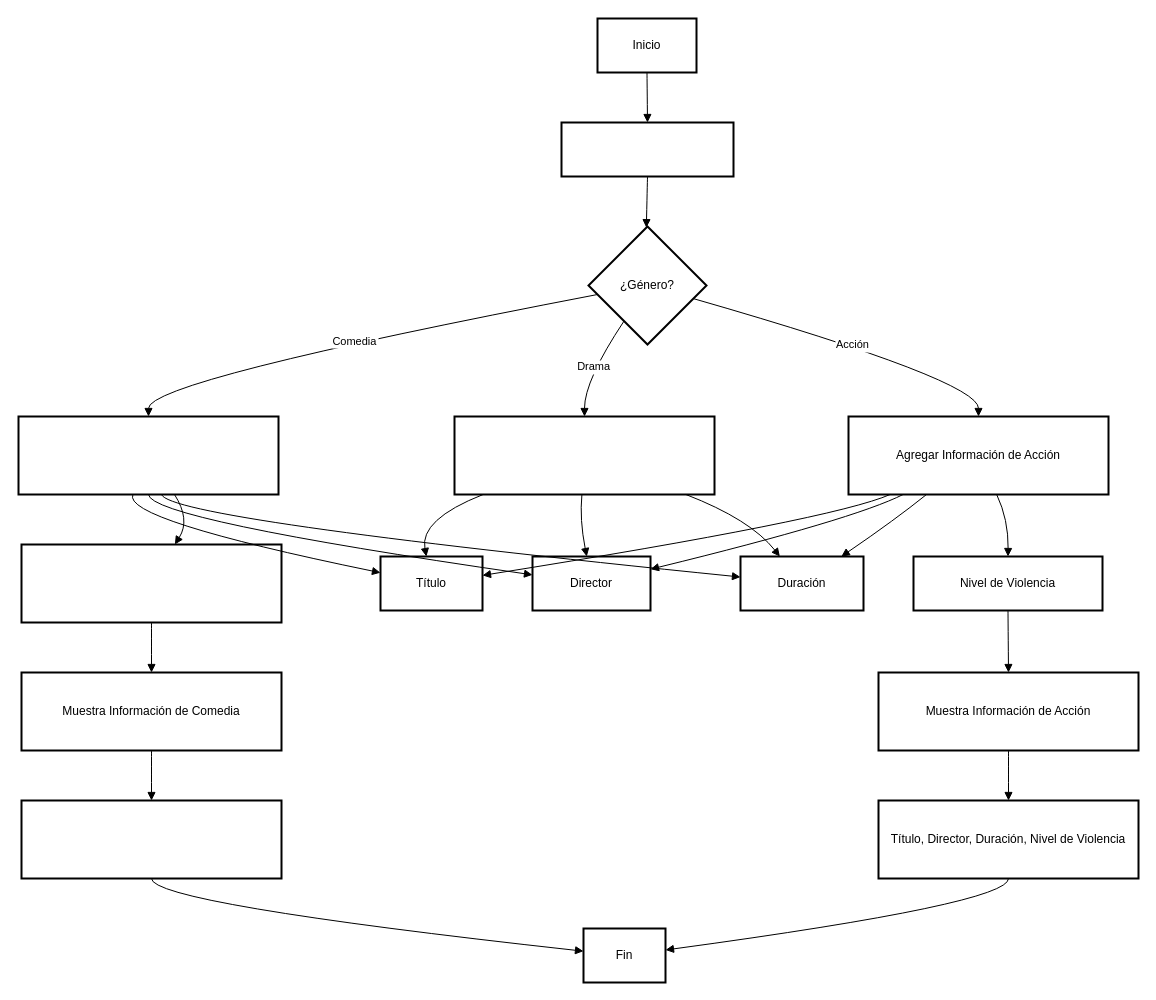
Some shapes in this 1156 by 1000 pixel diagram are drawn without their labels. Each missing label, with the centre of its shape:
"Agregar Información de Comedia" belongs at (x=148, y=455).
"Agregar Información de Drama" belongs at (x=584, y=455).
"Clasificación por Edad Recomendada" belongs at (x=151, y=583).
"Definir Géneros" belongs at (x=647, y=149).
"Título, Director, Duración, Clasificación por Edad" belongs at (x=151, y=839).
